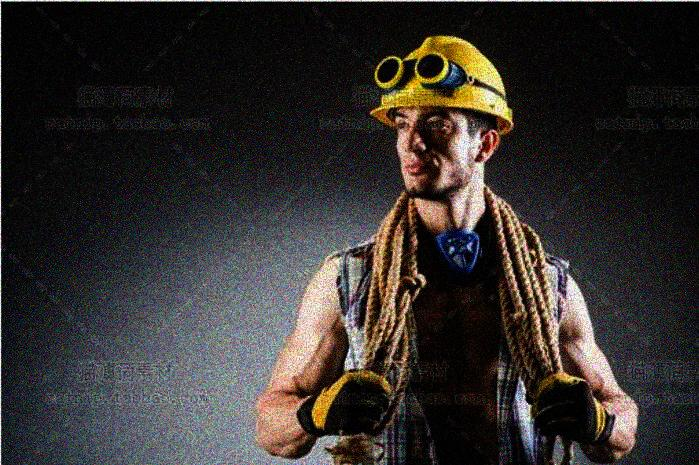helmet: (371, 35, 518, 201)
